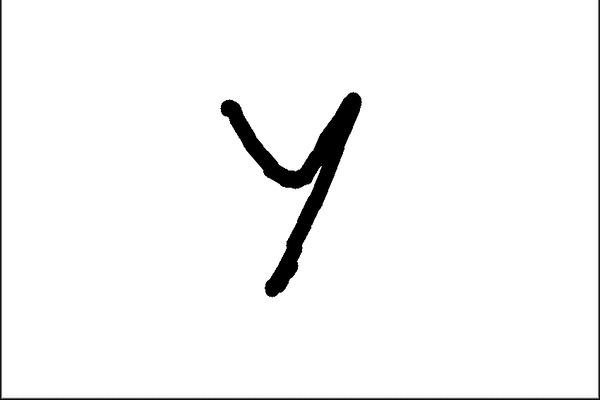Y: (209, 86, 364, 304)
